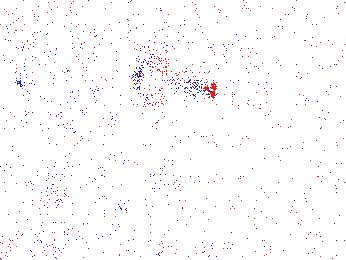flame jellyfish: (130, 54, 216, 114), (71, 161, 132, 216), (13, 163, 75, 208)
